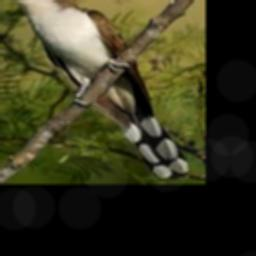Cuckoo: (0, 0, 189, 178)
